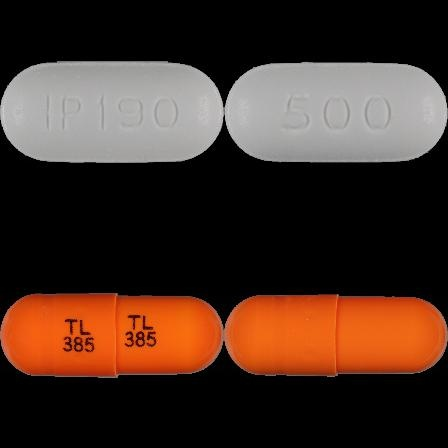63187-455: (0, 0, 224, 224)
